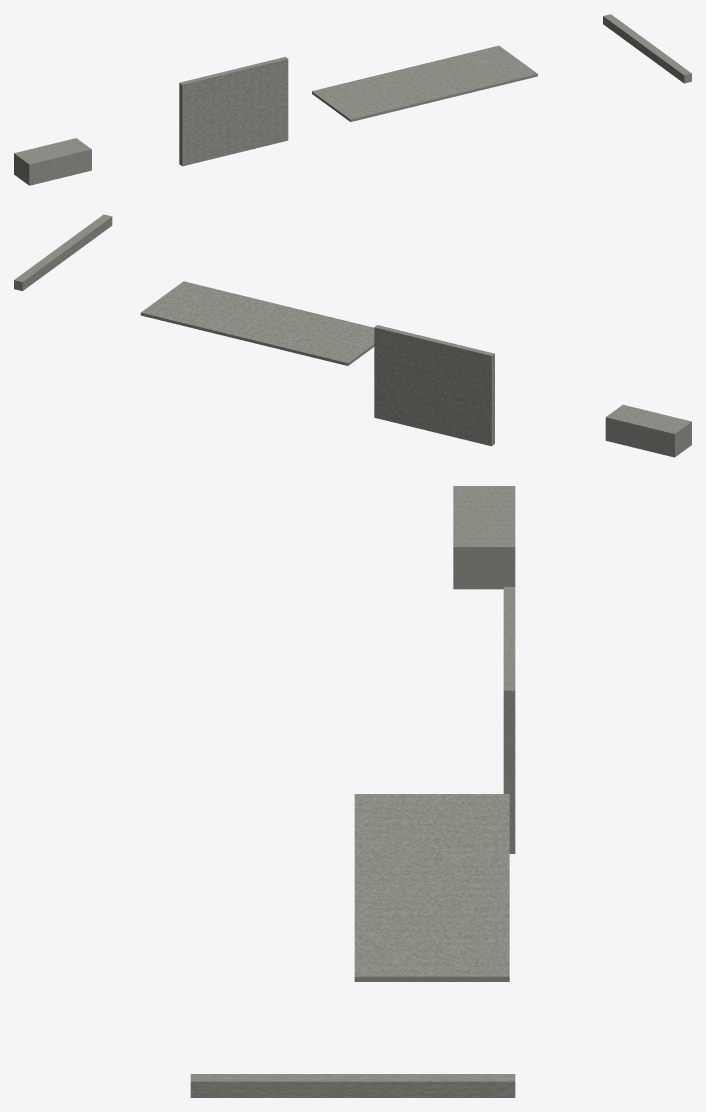
The model's file is PZ_Checkpoint_Optional_UCX_Collision_Proxies.glb.
3 renders of one model, top to bottom at view 1: azimuth 30°, elevation 25°; view 2: azimuth 150°, elevation 25°; view 3: azimuth 270°, elevation 25°, orthographic. The views are drawn at different scales.
Parts seen in each view (by area): view 1: Checkpoint_Optional_UCX_Proxies__UCX_GUARD_HUT_FLOOR, Checkpoint_Optional_UCX_Proxies__UCX_GATE_LEAF_L, Checkpoint_Optional_UCX_Proxies__UCX_GATE_LEAF_R, Checkpoint_Optional_UCX_Proxies__UCX_JERSEY_BARRIER, Checkpoint_Optional_UCX_Proxies__UCX_LIGHT_POLE; view 2: Checkpoint_Optional_UCX_Proxies__UCX_GUARD_HUT_FLOOR, Checkpoint_Optional_UCX_Proxies__UCX_GATE_LEAF_R, Checkpoint_Optional_UCX_Proxies__UCX_GATE_LEAF_L, Checkpoint_Optional_UCX_Proxies__UCX_JERSEY_BARRIER, Checkpoint_Optional_UCX_Proxies__UCX_LIGHT_POLE; view 3: Checkpoint_Optional_UCX_Proxies__UCX_GATE_LEAF_R, Checkpoint_Optional_UCX_Proxies__UCX_GATE_LEAF_L, Checkpoint_Optional_UCX_Proxies__UCX_LIGHT_POLE, Checkpoint_Optional_UCX_Proxies__UCX_JERSEY_BARRIER, Checkpoint_Optional_UCX_Proxies__UCX_GUARD_HUT_FLOOR.
Part boxes in pixels (x1=…): Checkpoint_Optional_UCX_Proxies__UCX_GUARD_HUT_FLOOR: x1=179, y1=57, x2=288, y2=166; Checkpoint_Optional_UCX_Proxies__UCX_GATE_LEAF_L: x1=312, y1=68, x2=444, y2=121; Checkpoint_Optional_UCX_Proxies__UCX_GATE_LEAF_R: x1=406, y1=45, x2=537, y2=99; Checkpoint_Optional_UCX_Proxies__UCX_JERSEY_BARRIER: x1=14, y1=138, x2=91, y2=185; Checkpoint_Optional_UCX_Proxies__UCX_LIGHT_POLE: x1=603, y1=14, x2=691, y2=83; Checkpoint_Optional_UCX_Proxies__UCX_GUARD_HUT_FLOOR: x1=374, y1=325, x2=494, y2=446; Checkpoint_Optional_UCX_Proxies__UCX_GATE_LEAF_R: x1=140, y1=281, x2=286, y2=340; Checkpoint_Optional_UCX_Proxies__UCX_GATE_LEAF_L: x1=244, y1=306, x2=374, y2=365; Checkpoint_Optional_UCX_Proxies__UCX_JERSEY_BARRIER: x1=605, y1=405, x2=691, y2=457; Checkpoint_Optional_UCX_Proxies__UCX_LIGHT_POLE: x1=14, y1=214, x2=112, y2=290; Checkpoint_Optional_UCX_Proxies__UCX_GATE_LEAF_R: x1=354, y1=885, x2=509, y2=981; Checkpoint_Optional_UCX_Proxies__UCX_GATE_LEAF_L: x1=354, y1=794, x2=509, y2=885; Checkpoint_Optional_UCX_Proxies__UCX_LIGHT_POLE: x1=190, y1=1074, x2=515, y2=1097; Checkpoint_Optional_UCX_Proxies__UCX_JERSEY_BARRIER: x1=453, y1=486, x2=515, y2=589; Checkpoint_Optional_UCX_Proxies__UCX_GUARD_HUT_FLOOR: x1=503, y1=587, x2=515, y2=853.
Bounding box in the file's own units: 19.12 × 2.5 × 4.5.
1 material, 1 textured.
